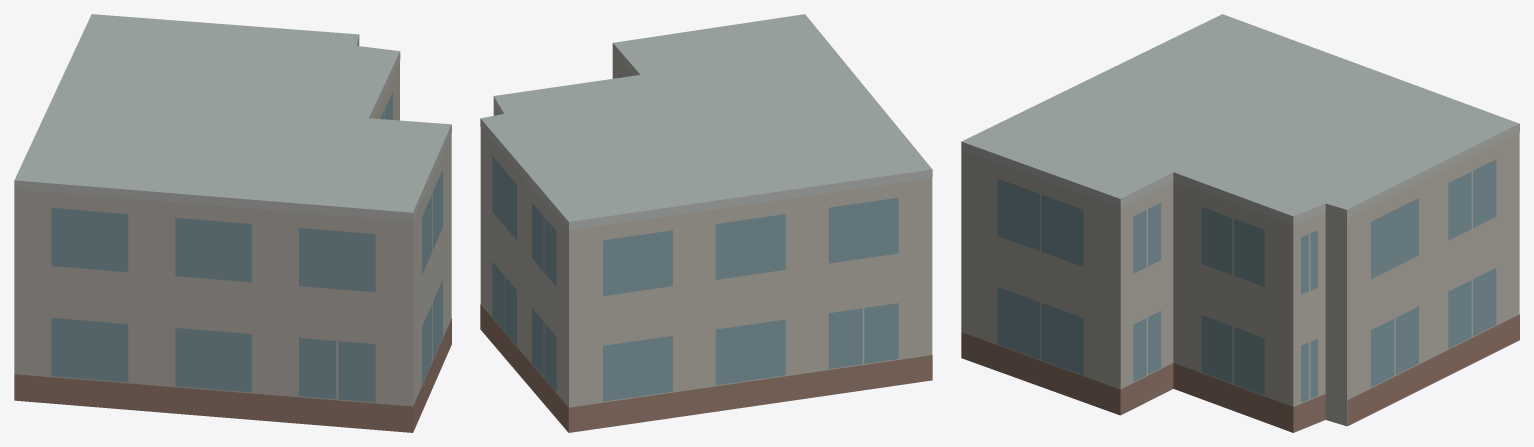
File: survey-upis-32789748.glb
3 renders of one model, left to right at view 1: azimuth 30°, elevation 25°; view 2: azimuth 150°, elevation 25°; view 3: azimuth 270°, elevation 25°, orthographic. The views are drawn at different scales.
Visible parts, largest first — view 1: survey-upis-32789748.tmp; view 2: survey-upis-32789748.tmp; view 3: survey-upis-32789748.tmp.
Boxes of the visible parts, x1=… form: survey-upis-32789748.tmp: x1=14, y1=14, x2=451, y2=432; survey-upis-32789748.tmp: x1=480, y1=14, x2=932, y2=432; survey-upis-32789748.tmp: x1=961, y1=14, x2=1519, y2=432.
Size of the model in its own units: 12.24 by 6.1 by 14.27.
